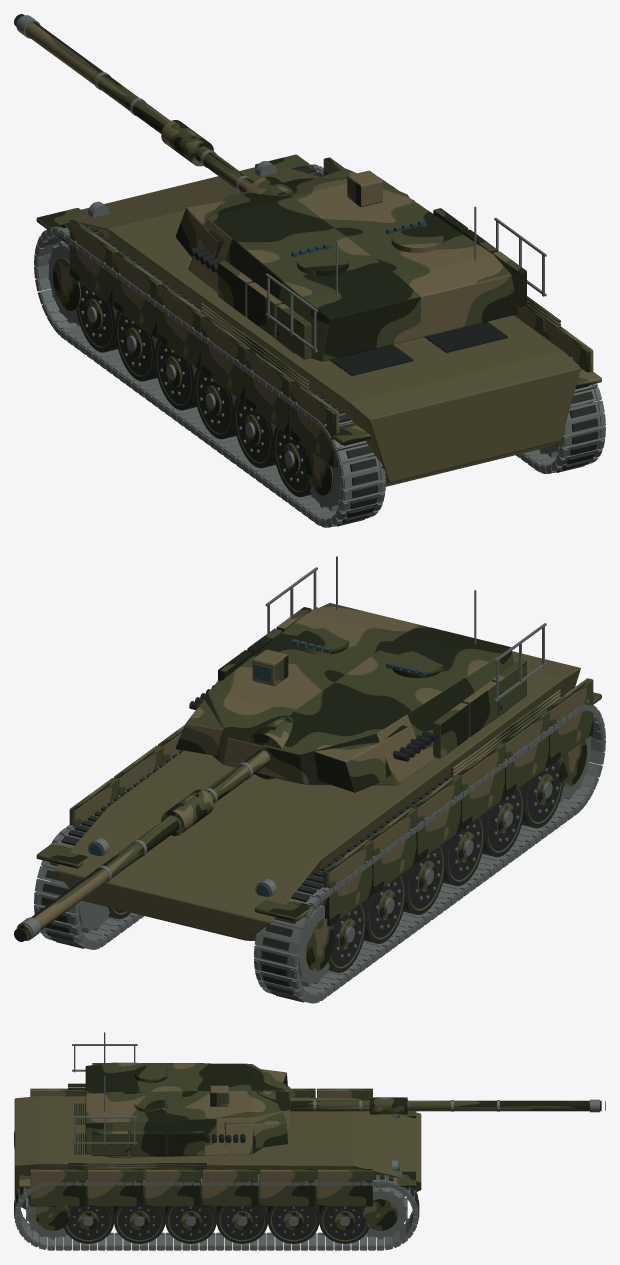
3 renders of one model, top to bottom at view 1: azimuth 30°, elevation 25°; view 2: azimuth 150°, elevation 25°; view 3: azimuth 270°, elevation 25°, orthographic. The views are drawn at different scales.
Parts seen in each view (by area): view 1: Other_Hull_Camouflage paint, Other_Turret_Camouflage paint, Other_Track_L_Track steel and fasteners, Other_Gun_Camouflage paint, Other_Track_R_Track steel and fasteners, Other_Hull_Grille and openings, Other_Track_L_Rubber tires and pads, Other_Track_L_Camouflage paint, Other_Track_R_Rubber tires and pads, Other_Turret_Track steel and fasteners, Other_RoadWheel_-1_4_Rubber tires and pads, Other_RoadWheel_-1_5_Rubber tires and pads (+5 smaller); view 2: Other_Hull_Camouflage paint, Other_Turret_Camouflage paint, Other_Track_L_Track steel and fasteners, Other_Gun_Camouflage paint, Other_Track_R_Track steel and fasteners, Other_Track_L_Rubber tires and pads, Other_Track_L_Camouflage paint, Other_Track_R_Rubber tires and pads, Other_Turret_Track steel and fasteners, Other_RoadWheel_-1_4_Rubber tires and pads, Other_RoadWheel_-1_2_Rubber tires and pads, Other_RoadWheel_-1_3_Rubber tires and pads (+7 smaller); view 3: Other_Hull_Camouflage paint, Other_Turret_Camouflage paint, Other_Track_R_Track steel and fasteners, Other_Gun_Camouflage paint, Other_Track_R_Camouflage paint, Other_RoadWheel_1_3_Rubber tires and pads, Other_RoadWheel_1_2_Rubber tires and pads, Other_RoadWheel_1_4_Rubber tires and pads, Other_RoadWheel_1_5_Rubber tires and pads, Other_RoadWheel_1_1_Rubber tires and pads, Other_RoadWheel_1_6_Rubber tires and pads, Other_Turret_Track steel and fasteners (+9 smaller).
Boxes of the visible parts, x1,y1,x2,y2 form: Other_Hull_Camouflage paint: (36,154,601,486); Other_Turret_Camouflage paint: (175,168,526,361); Other_Track_L_Track steel and fasteners: (34,226,385,527); Other_Gun_Camouflage paint: (16,16,292,195); Other_Track_R_Track steel and fasteners: (307,164,605,474); Other_Hull_Grille and openings: (330,321,507,376); Other_Track_L_Rubber tires and pads: (58,222,378,526); Other_Track_L_Camouflage paint: (52,258,333,495); Other_Track_R_Rubber tires and pads: (291,165,598,472); Other_Turret_Track steel and fasteners: (265,206,546,352); Other_RoadWheel_-1_4_Rubber tires and pads: (154,340,197,410); Other_RoadWheel_-1_5_Rubber tires and pads: (115,311,157,381); Other_Hull_Camouflage paint: (36,651,601,940); Other_Turret_Camouflage paint: (175,603,526,792); Other_Track_L_Track steel and fasteners: (254,704,605,1003); Other_Gun_Camouflage paint: (17,716,292,940); Other_Track_R_Track steel and fasteners: (34,752,178,949); Other_Track_L_Rubber tires and pads: (261,696,561,1002); Other_Track_L_Camouflage paint: (306,740,586,971); Other_Track_R_Rubber tires and pads: (41,750,183,948); Other_Turret_Track steel and fasteners: (265,556,546,701); Other_RoadWheel_-1_4_Rubber tires and pads: (403,844,445,914); Other_RoadWheel_-1_2_Rubber tires and pads: (482,786,524,857); Other_RoadWheel_-1_3_Rubber tires and pads: (442,815,485,886); Other_Hull_Camouflage paint: (14,1083,421,1209); Other_Turret_Camouflage paint: (85,1062,290,1157); Other_Track_R_Track steel and fasteners: (14,1174,418,1250); Other_Gun_Camouflage paint: (257,1090,601,1114); Other_Track_R_Camouflage paint: (35,1198,397,1230); Other_RoadWheel_1_3_Rubber tires and pads: (165,1190,216,1243); Other_RoadWheel_1_2_Rubber tires and pads: (114,1189,165,1243); Other_RoadWheel_1_4_Rubber tires and pads: (216,1193,268,1243); Other_RoadWheel_1_5_Rubber tires and pads: (268,1199,319,1243); Other_RoadWheel_1_1_Rubber tires and pads: (63,1188,114,1243); Other_RoadWheel_1_6_Rubber tires and pads: (319,1206,369,1243); Other_Turret_Track steel and fasteners: (72,1032,137,1144).
Bounding box in the file's own units: 3.63 × 3.14 × 10.84.
5 materials, 1 textured.
